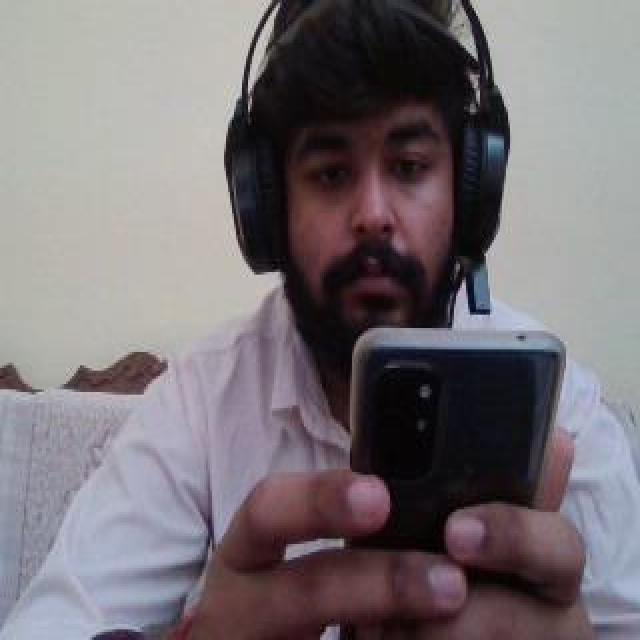phone: (351, 326, 565, 532)
